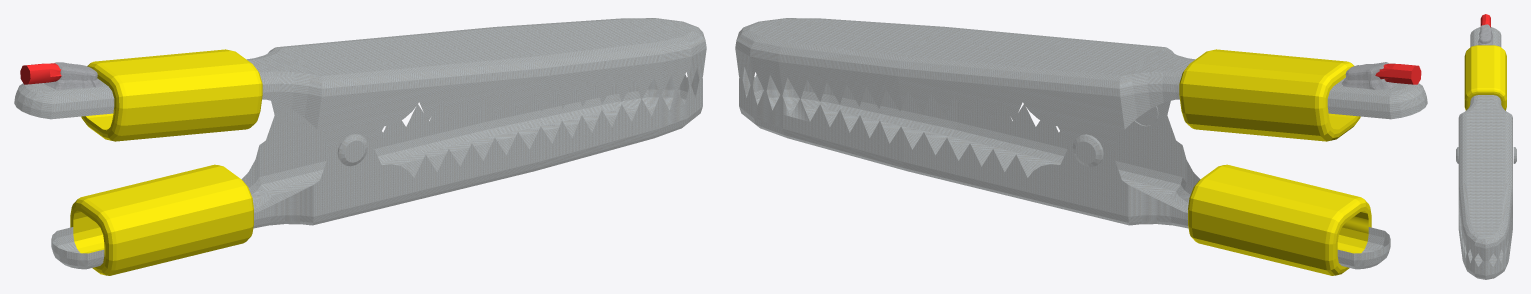
The model's file is Crocodile_clip.gltf.
The picture shows the model from 3 angles, left to right: view 1: azimuth 30°, elevation 25°; view 2: azimuth 150°, elevation 25°; view 3: azimuth 270°, elevation 25°; orthographic projection. The views are drawn at different scales.
Visible parts, largest first — view 1: Arm2, Arm1; view 2: Arm2, Arm1; view 3: Arm2, Arm1.
Boxes of the visible parts, x1,y1,x2,y2 form: Arm2: (14, 18, 706, 166); Arm1: (51, 71, 702, 275); Arm2: (735, 18, 1427, 167); Arm1: (739, 71, 1390, 275); Arm2: (1456, 14, 1516, 261); Arm1: (1458, 200, 1512, 279).
Size of the model in its own units: 4.41 by 1.35 by 0.6768.
Materials: 4 (2 with a texture image).
